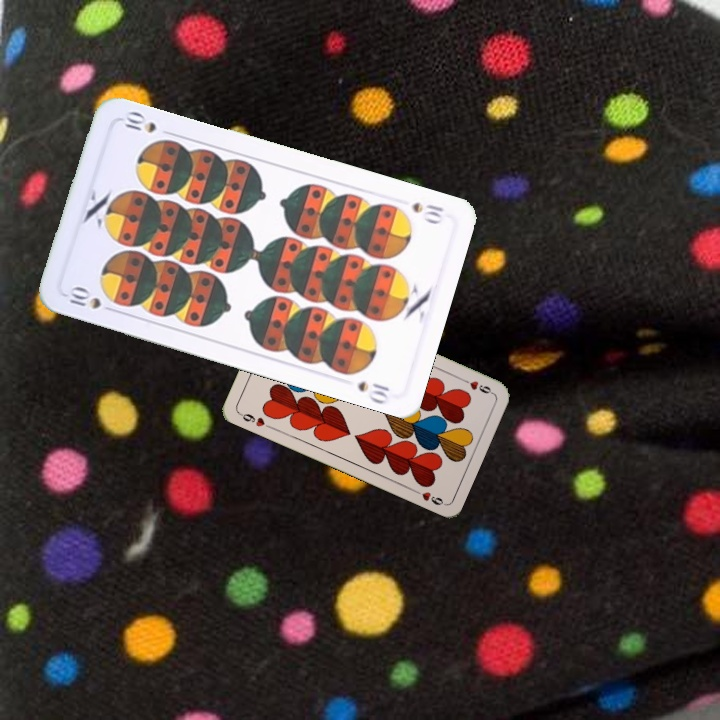H9: (235, 409, 274, 431), (457, 374, 495, 396)
S10: (62, 282, 119, 315), (407, 198, 446, 227)
